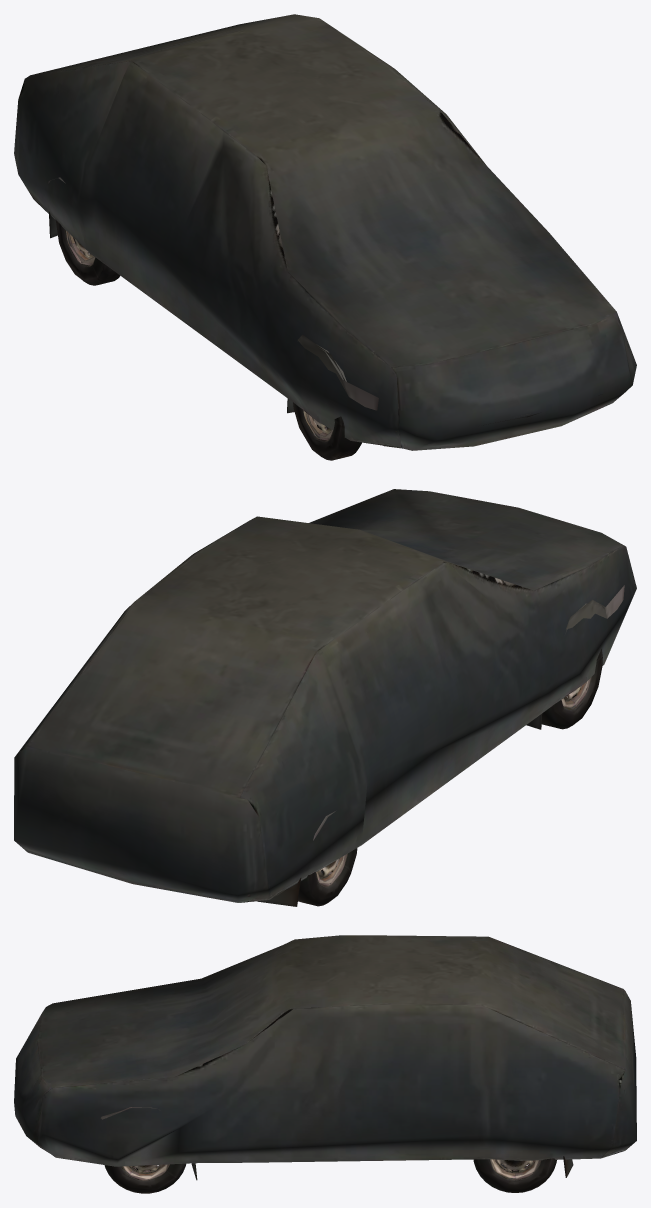
Rendered from car.glb.
The picture shows the model from 3 angles, top to bottom: view 1: azimuth 30°, elevation 25°; view 2: azimuth 150°, elevation 25°; view 3: azimuth 270°, elevation 25°; orthographic projection. The views are drawn at different scales.
Visible parts, largest first — view 1: covered_car, covered_car_wheel_02, covered_car_wheel_03; view 2: covered_car, covered_car_wheel_03, covered_car_wheel_02; view 3: covered_car, covered_car_wheel_04, covered_car_wheel_01.
Boxes of the visible parts, x1,y1,x2,y2 form: covered_car: (14, 14, 636, 450); covered_car_wheel_02: (293, 402, 361, 460); covered_car_wheel_03: (55, 219, 119, 285); covered_car: (14, 489, 636, 906); covered_car_wheel_03: (298, 848, 357, 906); covered_car_wheel_02: (541, 649, 602, 729); covered_car: (14, 935, 636, 1180); covered_car_wheel_04: (473, 1158, 556, 1192); covered_car_wheel_01: (104, 1163, 186, 1193).
Size of the model in its own units: 1.79 by 1.41 by 4.34.
1 material, 1 textured.
